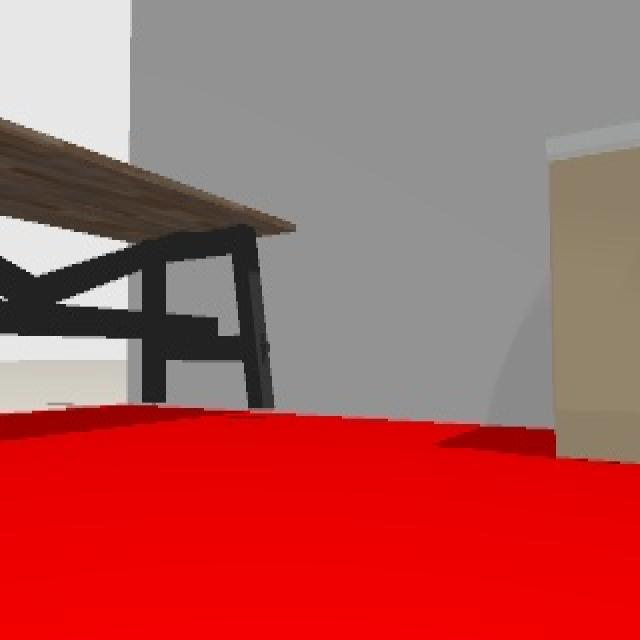dining: (1, 112, 298, 411)
